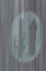Two way: (4, 5, 43, 58)
